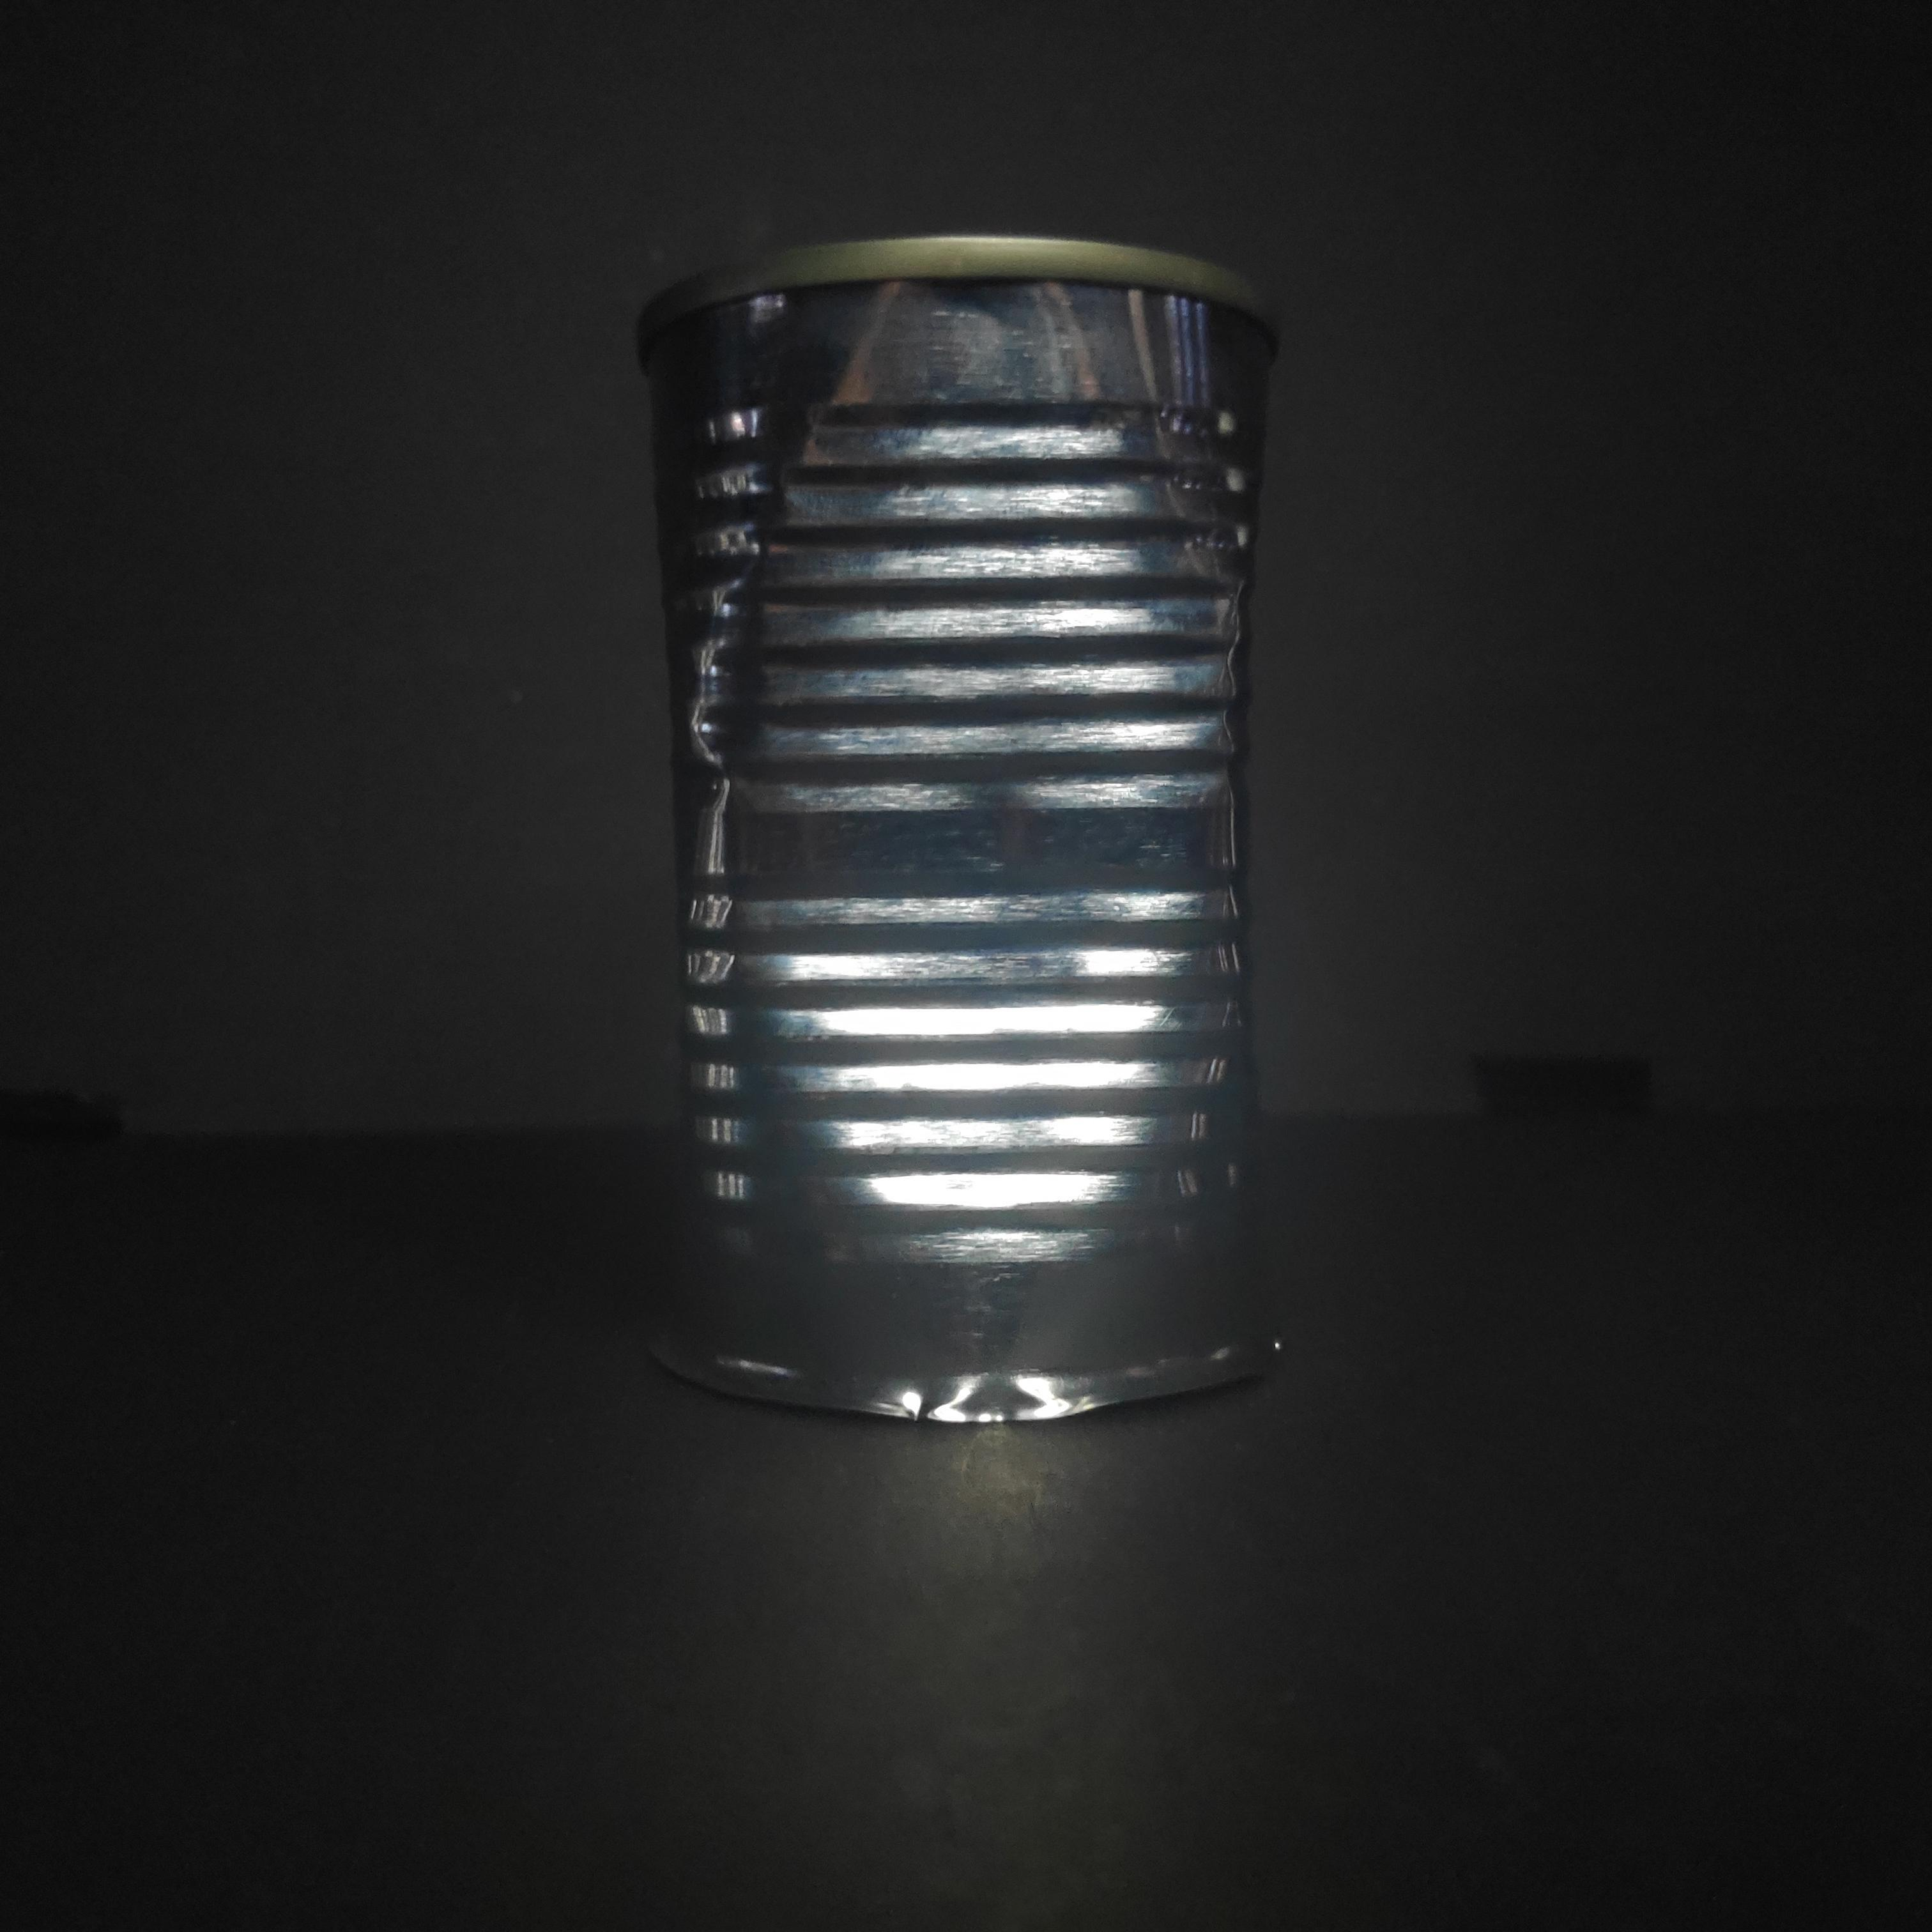Dented: (614, 198, 1339, 1472)
